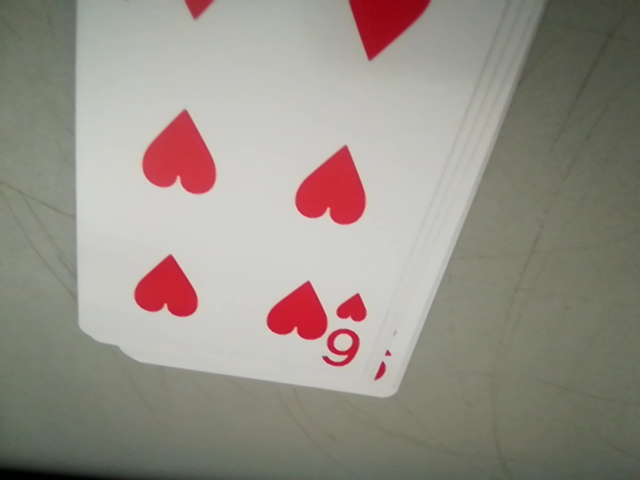hx 6: (323, 292, 369, 367)
